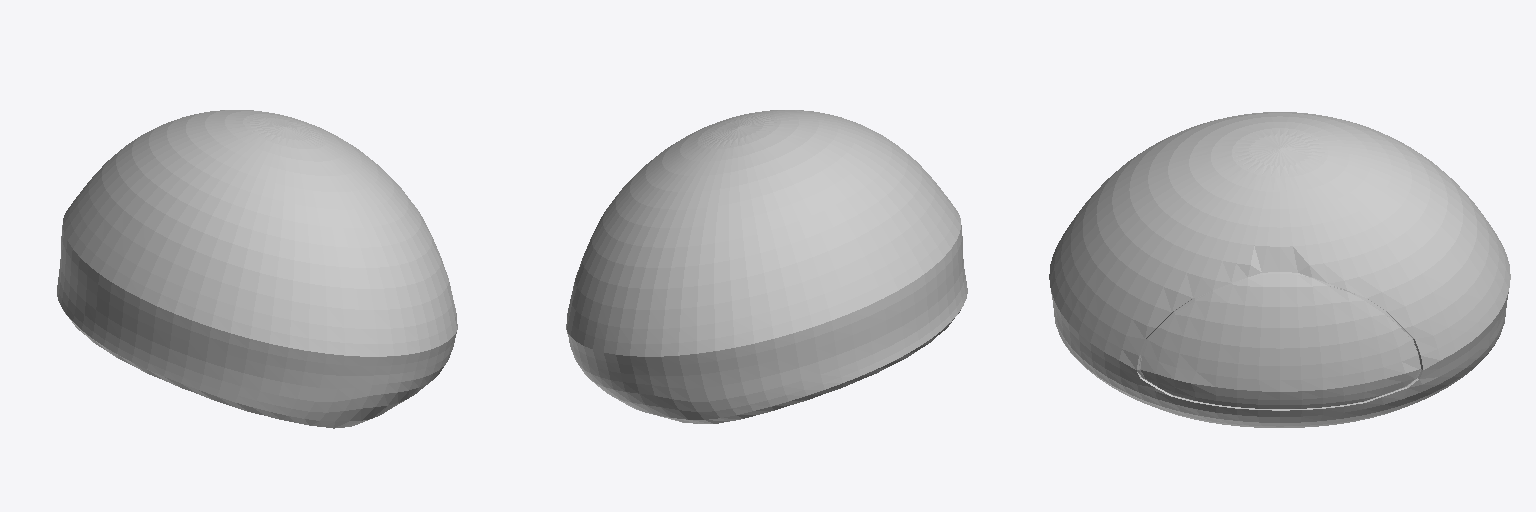
Rendered from eve_head.obj.
3 views of the same model, side by side, from view 1: azimuth 30°, elevation 25°; view 2: azimuth 150°, elevation 25°; view 3: azimuth 270°, elevation 25° (orthographic).
Visible parts, largest first — view 1: Sphere.001_Sphere.002; view 2: Sphere.001_Sphere.002; view 3: Sphere.001_Sphere.002.
Part boxes in pixels (x1,y1,x2,y2): Sphere.001_Sphere.002: (57,110,457,428); Sphere.001_Sphere.002: (566,110,967,423); Sphere.001_Sphere.002: (1049,112,1510,427).
Bounding box in the file's own units: 1.28 × 0.9352 × 1.56.